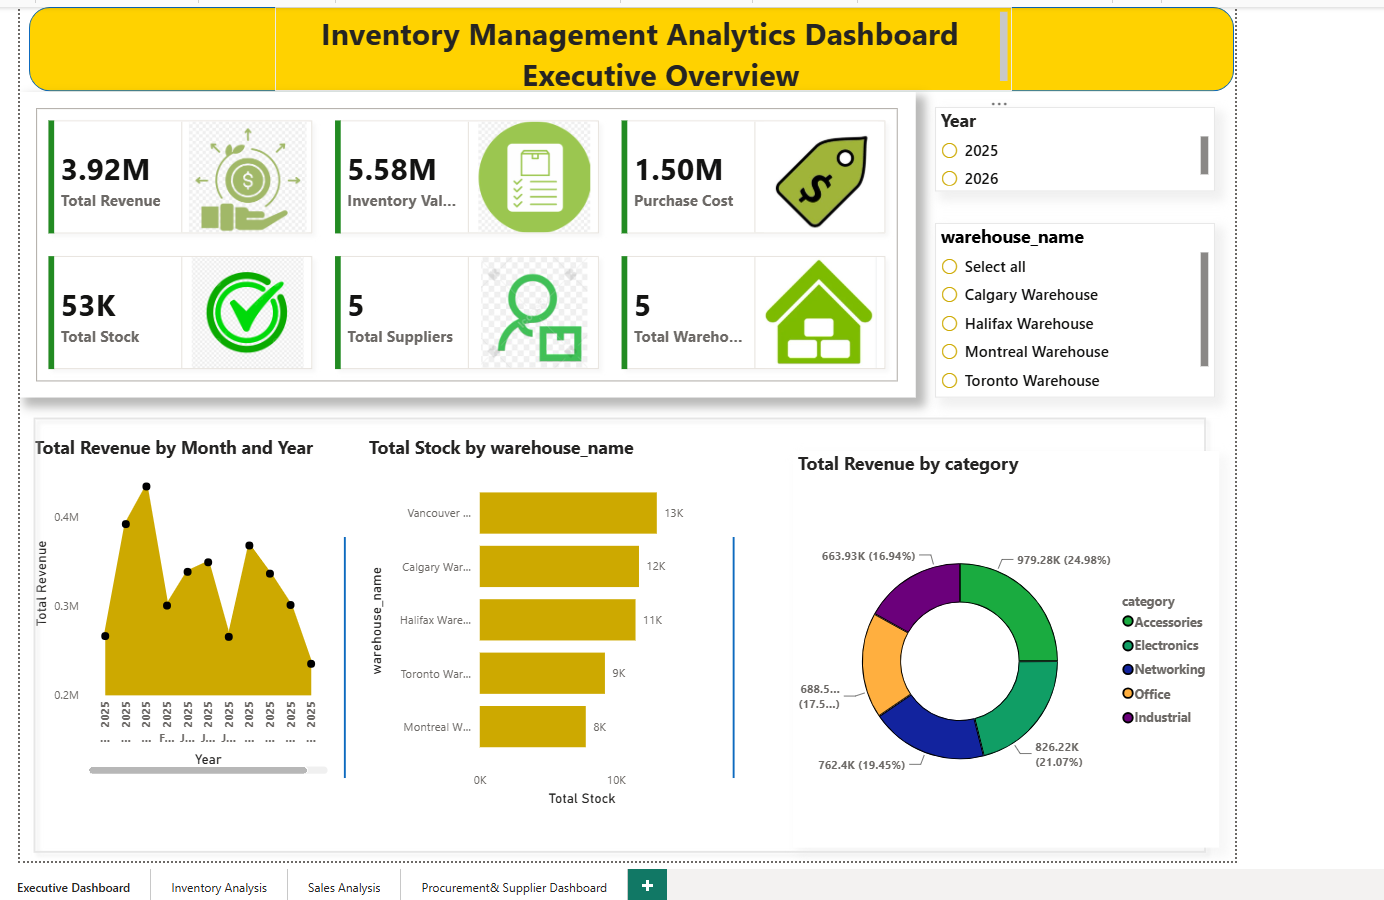

This screenshot's page, from the dashboard's own definition file:
{"tool":"powerbi","page":{"name":"Executive Dashboard","canvas":[1280,900],"ordinal":0},"visuals":[{"type":"shape","box":[9.4,0,1269.9,88.8],"z":0},{"type":"textbox","box":[268.3,0,776.7,88.8],"z":2000},{"type":"lineChart","fields":{"Category":["Date.Month","Date.Year"],"Y":["Date.Total Revenue"]},"box":[9.6,450.6,319.7,362.1],"z":3001},{"type":"shape","box":[184.9,558.5,315.8,254.2],"z":3003},{"type":"clusteredBarChart","fields":{"Category":["warehouses.warehouse_name"],"Y":["Date.Total Stock"]},"box":[362.1,450.6,352.4,394.8],"z":3004},{"type":"shape","box":[5.5,423.9,1253.6,476.7],"z":3005},{"type":"shape","box":[714.5,558.5,75.1,254.2],"z":3006},{"type":"donutChart","fields":{"Category":["products.category"],"Y":["Date.Total Revenue"]},"box":[814.6,468,448.7,417.9],"z":3007},{"type":"listSlicer","fields":{"Values":["Date.Year"]},"box":[964.3,105.5,294.8,89.2],"z":3008},{"type":"listSlicer","fields":{"Values":["warehouses.warehouse_name"]},"box":[964.3,227.4,294.8,183.8],"z":3009},{"type":"cardVisual","fields":{"Data":["Date.Total Revenue","Date.Inventory Value","Date.Purchase Cost","Date.Total Stock","Date.Total Suppliers","Date.Total Warehouses"]},"box":[0,89.2,944.3,322],"z":3010}]}

Visuals, with their boxes on the page's 1280x900 design canvas (x1, y1, x2, y2). These are canvas units, not pixel positions in the 1384x900 screenshot, which may show the page scaled, cropped or inside an application window:
shape: (9, 0, 1279, 89)
textbox: (268, 0, 1045, 89)
lineChart - Date.Month x Date.Year: (10, 451, 329, 813)
shape: (185, 558, 501, 813)
clusteredBarChart - warehouses.warehouse_name x Date.Total Stock: (362, 451, 714, 845)
shape: (6, 424, 1259, 901)
shape: (714, 558, 790, 813)
donutChart - products.category x Date.Total Revenue: (815, 468, 1263, 886)
listSlicer - Date.Year: (964, 106, 1259, 195)
listSlicer - warehouses.warehouse_name: (964, 227, 1259, 411)
cardVisual - Date.Total Revenue x Date.Inventory Value: (0, 89, 944, 411)
